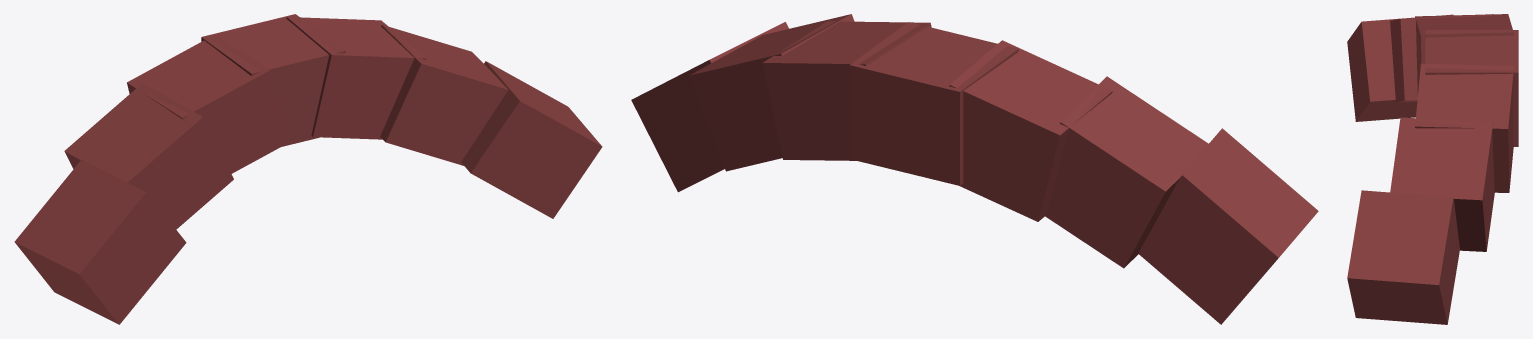
The model's file is mouth_sad.glb.
The picture shows the model from 3 angles, left to right: view 1: azimuth 30°, elevation 25°; view 2: azimuth 150°, elevation 25°; view 3: azimuth 270°, elevation 25°; orthographic projection. The views are drawn at different scales.
Parts seen in each view (by area): view 1: Head; view 2: Head; view 3: Head.
Part boxes in pixels (box(x1,y1,x2,y2)): Head: box(14, 14, 602, 324); Head: box(631, 14, 1318, 324); Head: box(1347, 14, 1518, 324).
Bounding box in the file's own units: 0.1587 × 0.0503 × 0.0459.
